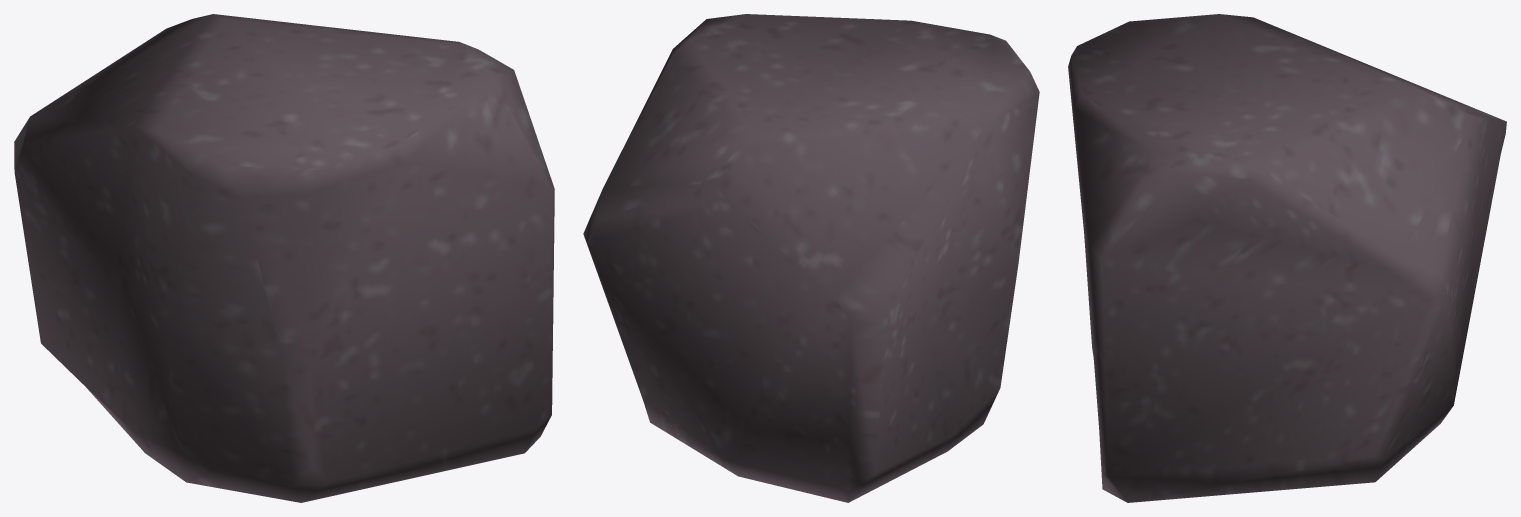
File: StoneB.FBX
3 views of the same model, side by side, from view 1: azimuth 30°, elevation 25°; view 2: azimuth 150°, elevation 25°; view 3: azimuth 270°, elevation 25° (orthographic). The views are drawn at different scales.
Visible parts, largest first — view 1: StoneB; view 2: StoneB; view 3: StoneB.
Part boxes in pixels (bbox=[...]): StoneB: bbox=[14, 14, 554, 502]; StoneB: bbox=[583, 14, 1039, 502]; StoneB: bbox=[1068, 14, 1506, 502].
Bounding box in the file's own units: 142 × 133 × 158.
